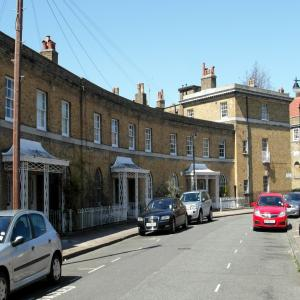Vehicle-registration-plate: (266, 220, 276, 226), (147, 224, 157, 228)
